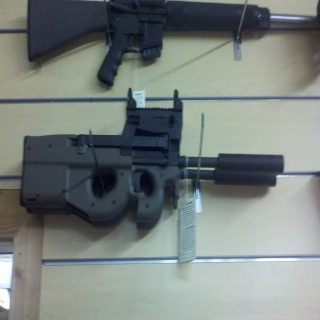rifle: (21, 85, 286, 235), (23, 1, 319, 86)
